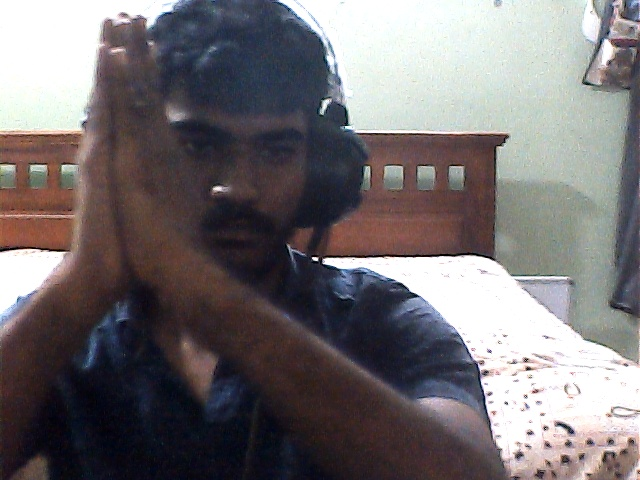Sign: (60, 13, 217, 304)
